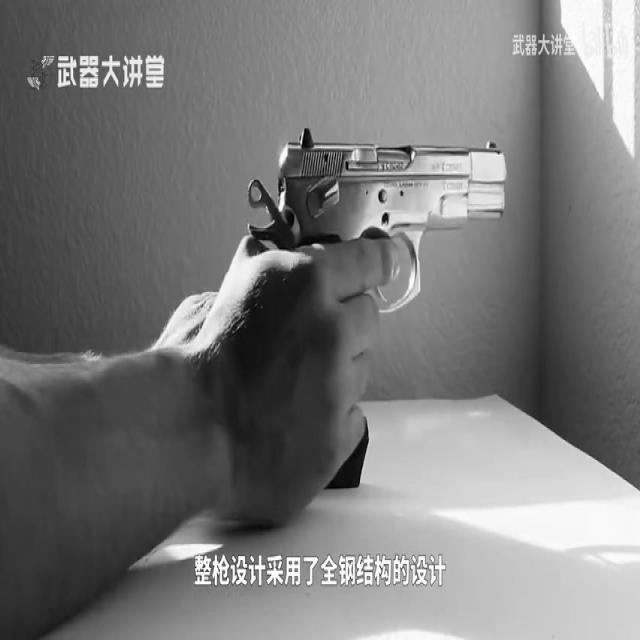Hand-Gun: (206, 66, 538, 500)
